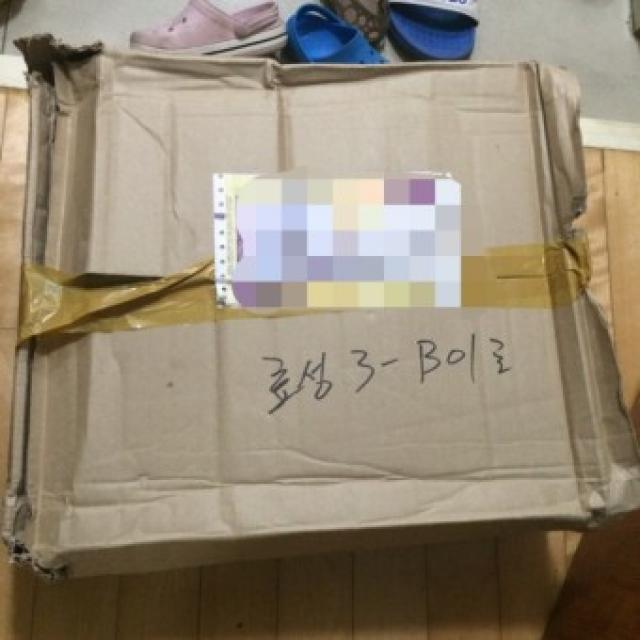damaged: (27, 35, 103, 89)
